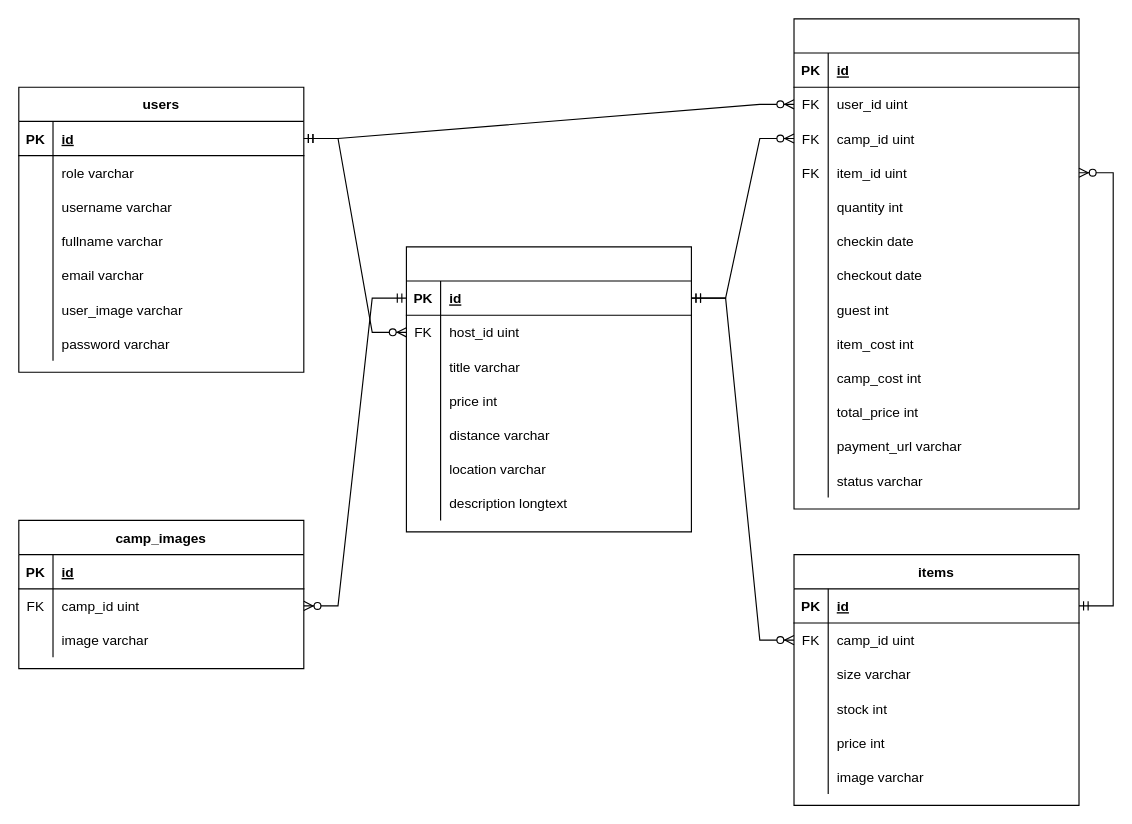
This 1132x824 diagram has some shape labels left out. The shapes that lost their labels are listed below. From the top down, each one's box as (x1, y1, x2, y2) in pixels, then its label:
(793, 18, 1079, 509): bookings
(405, 246, 691, 532): camps
